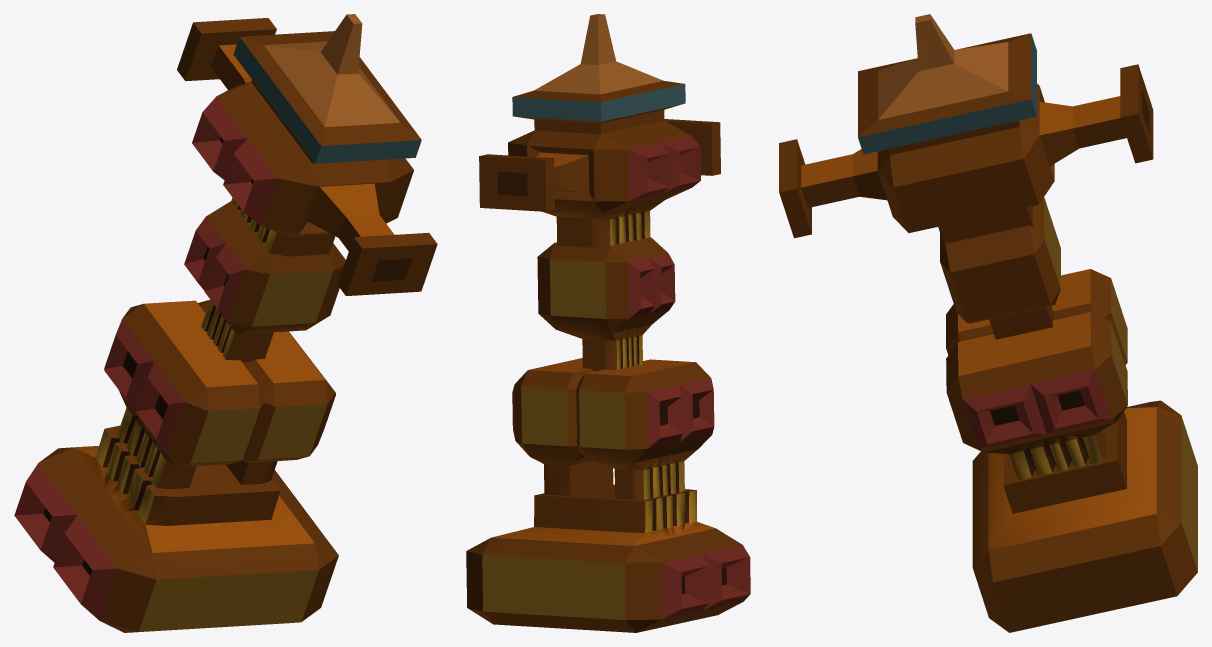
Rendered from Totem.fbx.
The picture shows the model from 3 angles, left to right: view 1: azimuth 30°, elevation 25°; view 2: azimuth 150°, elevation 25°; view 3: azimuth 270°, elevation 25°; orthographic projection. The views are drawn at different scales.
Parts seen in each view (by area): view 1: Totem; view 2: Totem; view 3: Totem.
Boxes of the visible parts, bbox=[...] form: Totem: bbox=[14, 14, 437, 632]; Totem: bbox=[466, 14, 750, 632]; Totem: bbox=[779, 14, 1197, 632].
Size of the model in its own units: 918 by 2036 by 1245.
